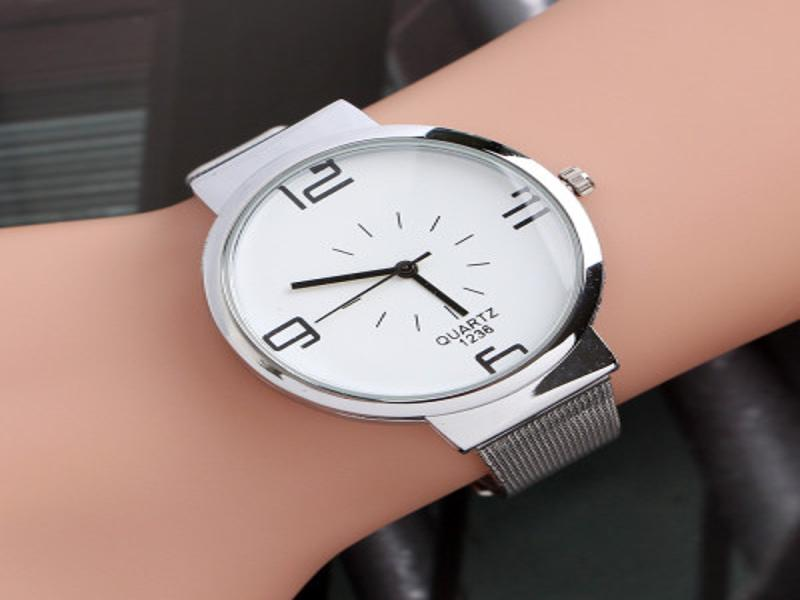watch: (185, 96, 626, 498)
